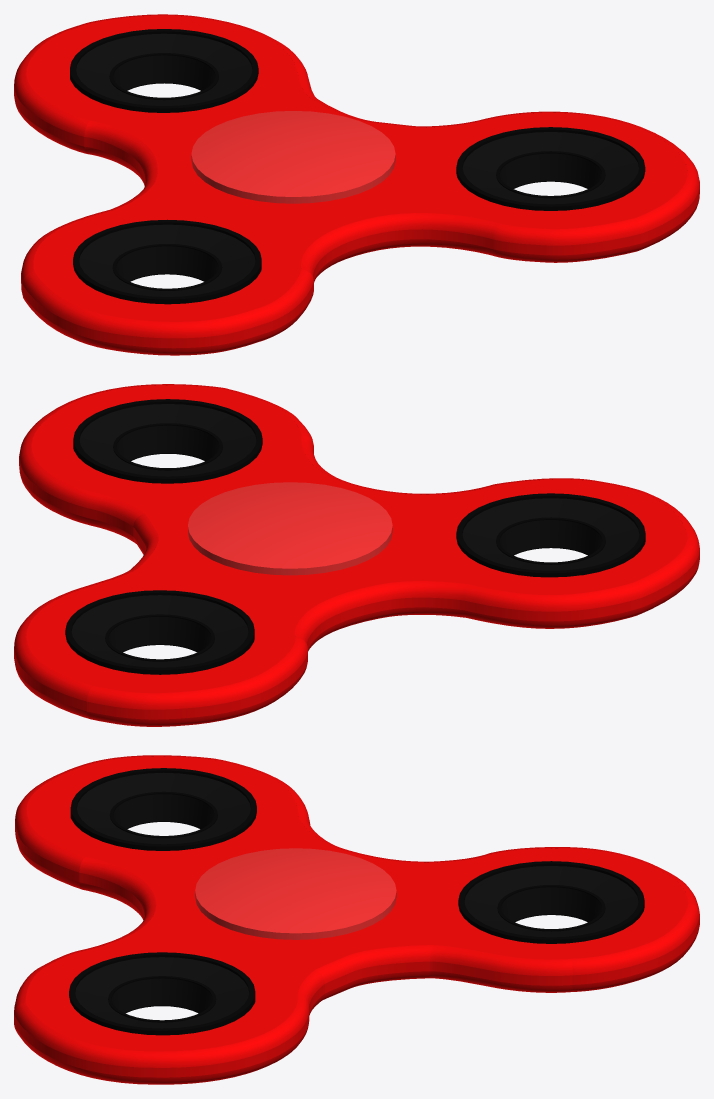
File: spinner.fbx
3 renders of one model, top to bottom at view 1: azimuth 30°, elevation 25°; view 2: azimuth 150°, elevation 25°; view 3: azimuth 270°, elevation 25°, orthographic.
Visible parts, largest first — view 1: Объект_Цистерна_2; view 2: Объект_Цистерна_2; view 3: Объект_Цистерна_2.
Part boxes in pixels (<box>): Объект_Цистерна_2: <box>14,14,699,355</box>; Объект_Цистерна_2: <box>14,384,699,726</box>; Объект_Цистерна_2: <box>14,755,699,1084</box>.
Size of the model in its own units: 408 by 39.11 by 387.
